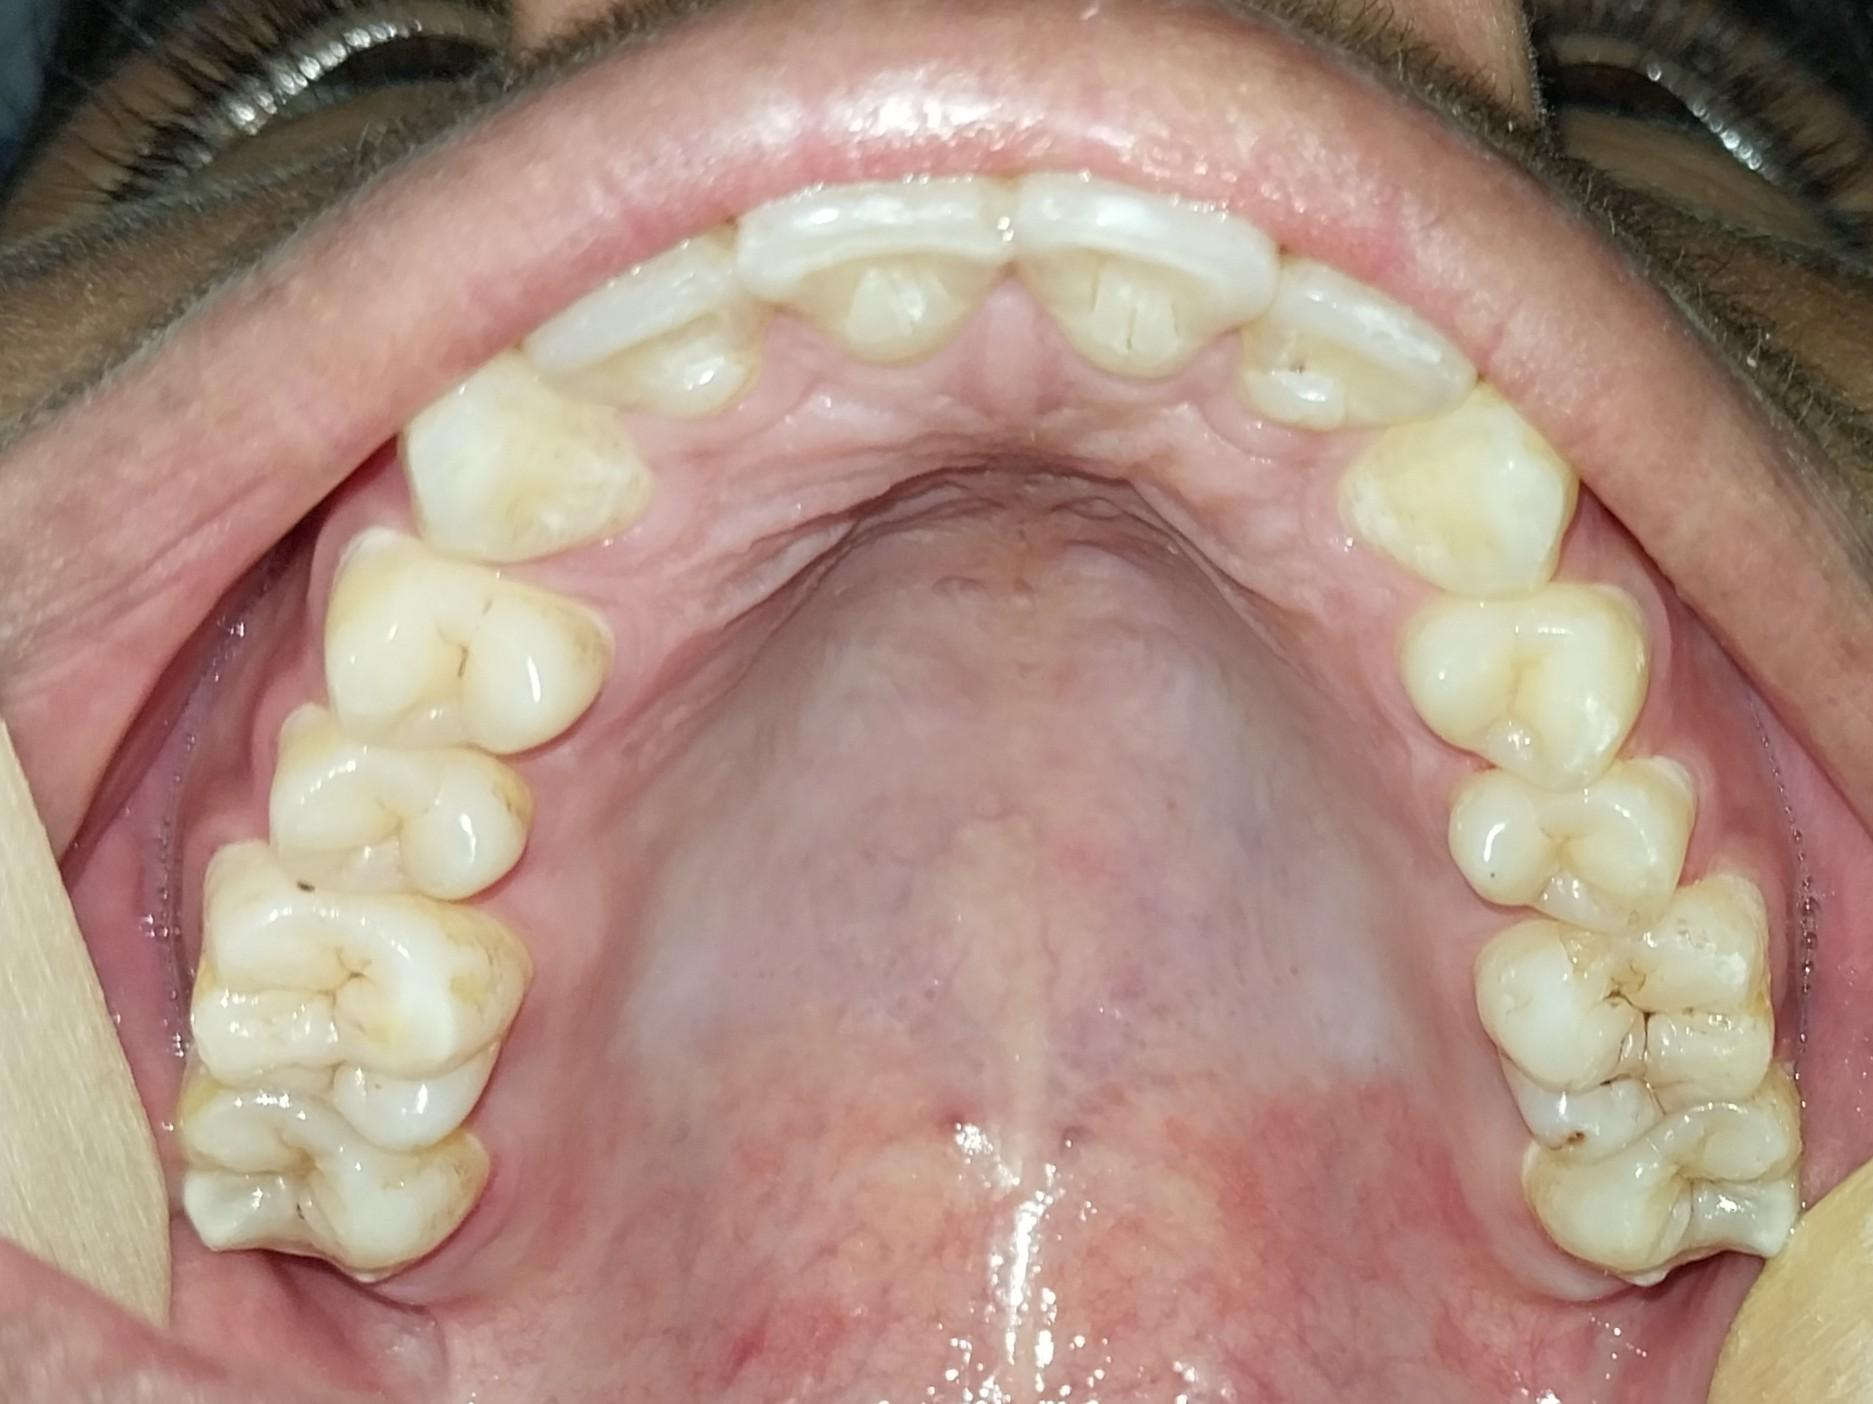D: (1474, 909, 1774, 1163)
